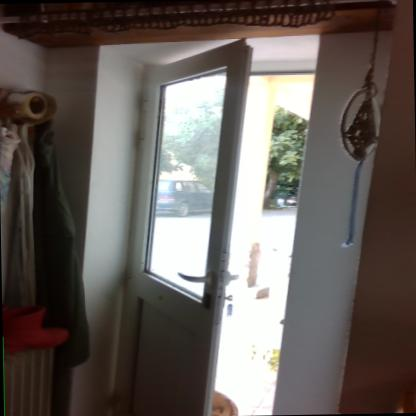semi: (68, 36, 364, 416)
